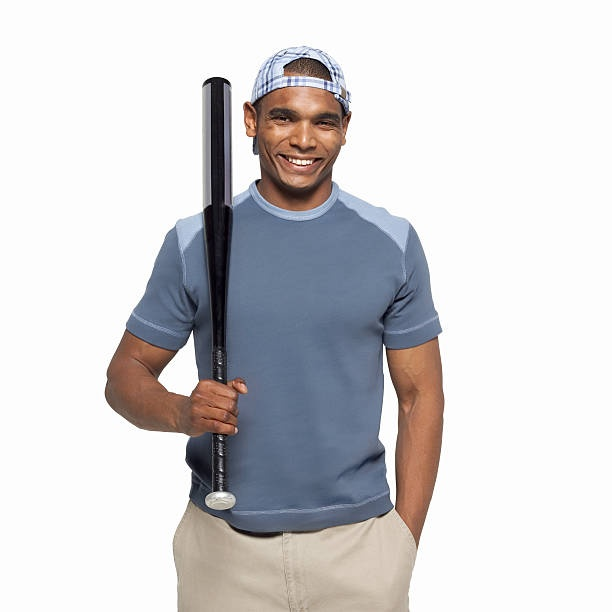bita: (195, 74, 243, 509)
